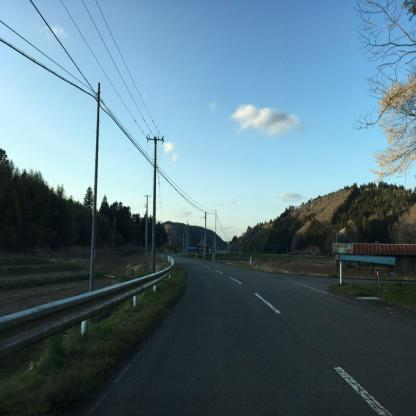Someiyoshino: (366, 55, 416, 194)
